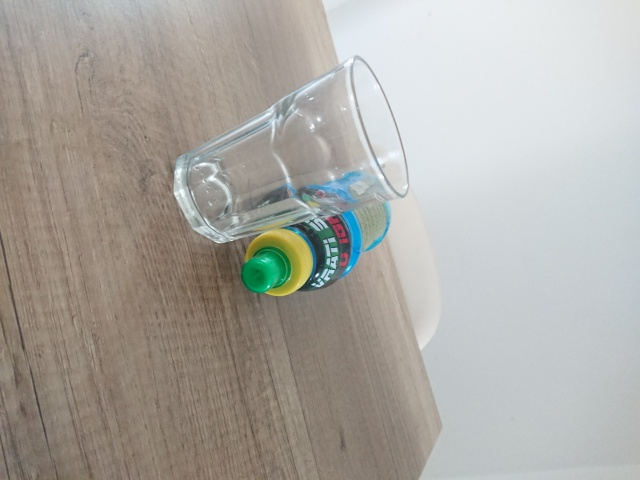Vindi Iso Sport Forest Strawberries 500mL: (239, 168, 391, 299)
